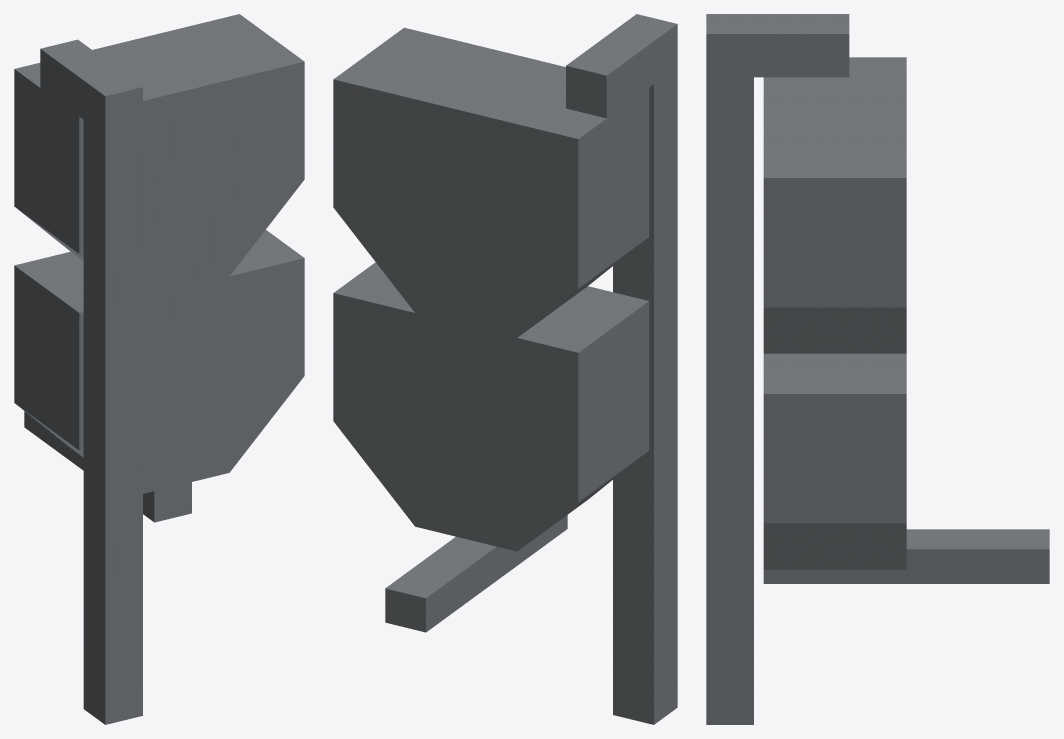
The model's file is 配料系统-20220905.glb.
3 renders of one model, left to right at view 1: azimuth 30°, elevation 25°; view 2: azimuth 150°, elevation 25°; view 3: azimuth 270°, elevation 25°, orthographic. The views are drawn at different scales.
Size of the model in its own units: 3 by 8 by 3.6.
1 material, 1 textured.
